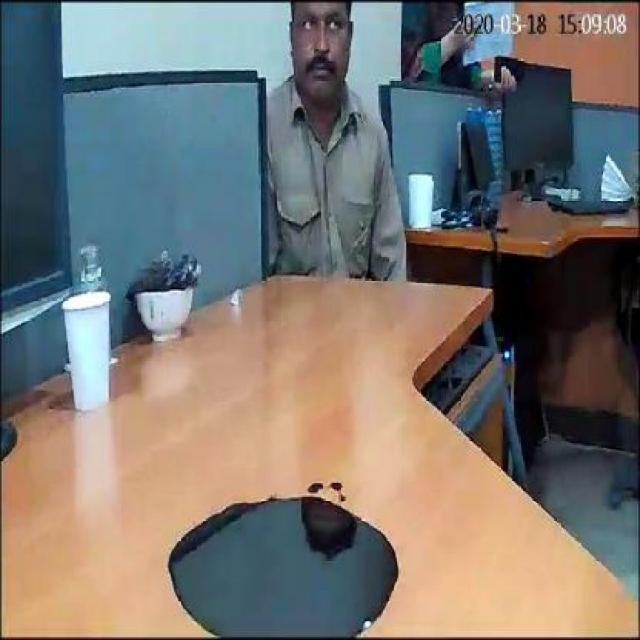spill: (170, 496, 398, 636)
